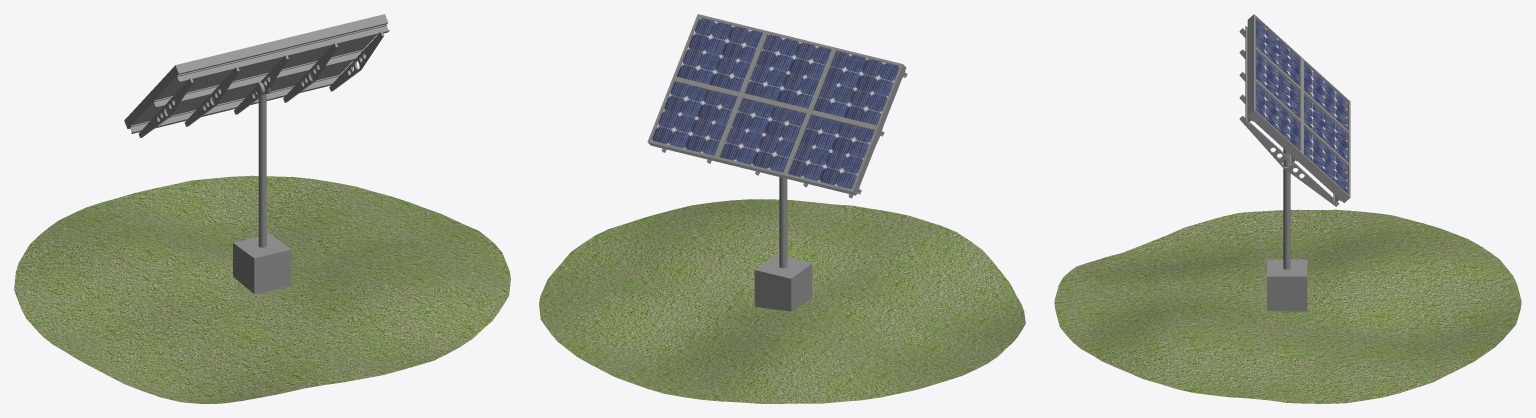
Rendered from solarpanel.fbx.
3 views of the same model, side by side, from view 1: azimuth 30°, elevation 25°; view 2: azimuth 150°, elevation 25°; view 3: azimuth 270°, elevation 25° (orthographic). The views are drawn at different scales.
Visible parts, largest first — view 1: Circle001, Box001, Box002, Cylinder001; view 2: Circle001, Box001, Box002, Cylinder001; view 3: Circle001, Box001, Box002, Cylinder001.
Boxes of the visible parts, bbox=[...] form: Circle001: bbox=[14, 175, 510, 403]; Box001: bbox=[124, 14, 389, 137]; Box002: bbox=[233, 234, 291, 294]; Cylinder001: bbox=[258, 94, 266, 247]; Circle001: bbox=[539, 199, 1025, 403]; Box001: bbox=[647, 14, 907, 198]; Box002: bbox=[754, 254, 812, 311]; Cylinder001: bbox=[779, 177, 787, 268]; Circle001: bbox=[1054, 209, 1521, 403]; Box001: bbox=[1239, 14, 1350, 206]; Box002: bbox=[1267, 259, 1307, 311]; Cylinder001: bbox=[1283, 148, 1290, 269].
Size of the model in its own units: 1028 by 633 by 1028.
Materials: 3 (2 with a texture image).
